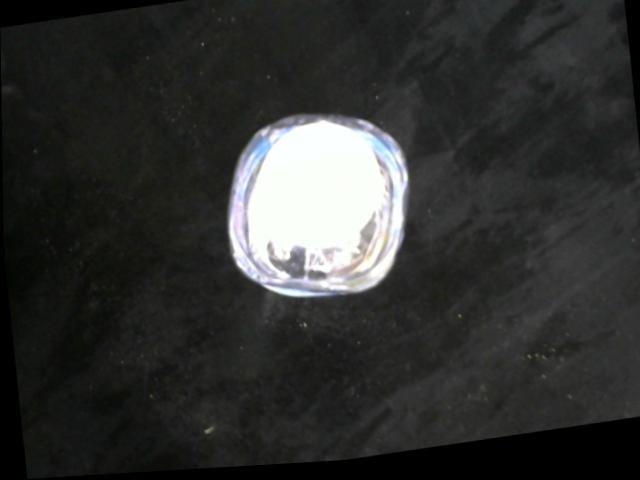bottle: (215, 101, 421, 317)
